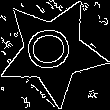O_E: (25, 27, 81, 76)
